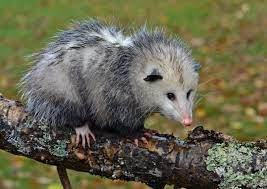opossum: (20, 22, 198, 146)
